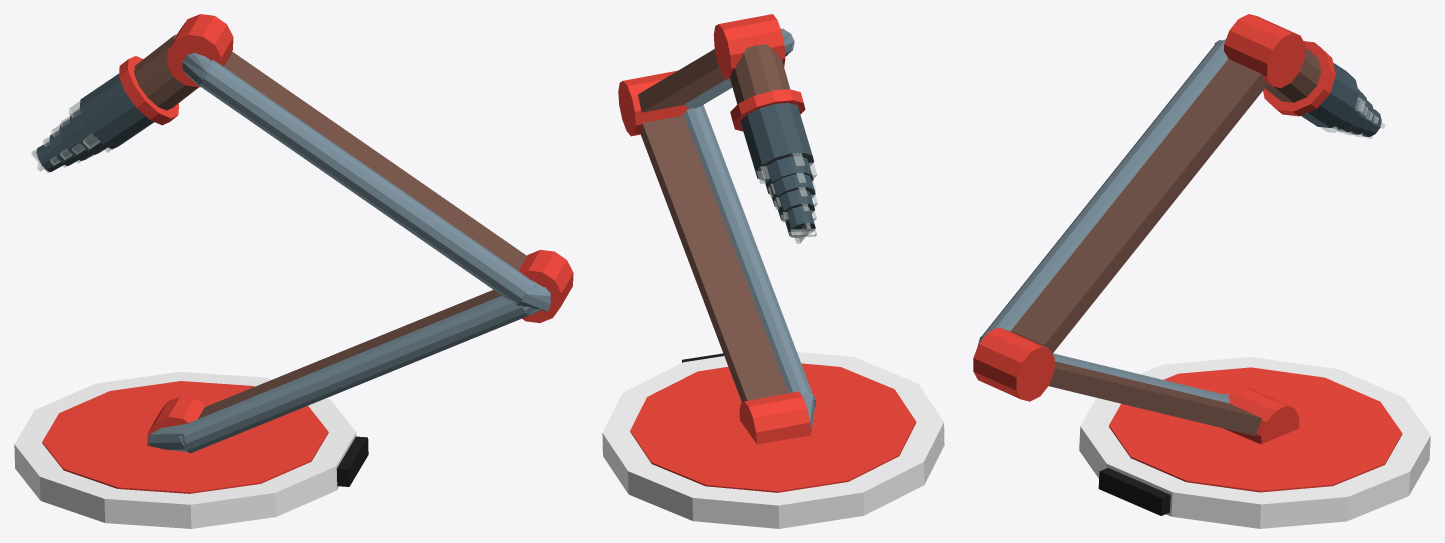
File: robot-1.obj
3 renders of one model, left to right at view 1: azimuth 30°, elevation 25°; view 2: azimuth 150°, elevation 25°; view 3: azimuth 270°, elevation 25°, orthographic. The views are drawn at different scales.
Parts seen in each view (by area): view 1: group265936291, group1067764225, group2055158156, group963967233, group652148442, group98671890, group788946328, group2111833462, group1258700130, group940106066, group1181536916, group916482102 (+3 smaller); view 2: group265936291, group1067764225, group788946328, group963967233, group98671890, group916482102, group2111833462, group652148442, group940106066, group1258700130, group1181536916, group2055158156; view 3: group265936291, group1067764225, group652148442, group2055158156, group788946328, group1258700130, group2111833462, group98671890, group916482102, group1513678270, group1181536916, group963967233 (+1 smaller).
Part boxes in pixels (x1=…): group265936291: x1=42, y1=381, x2=328, y2=493; group1067764225: x1=14, y1=371, x2=356, y2=528; group2055158156: x1=196, y1=59, x2=533, y2=303; group963967233: x1=178, y1=295, x2=529, y2=453; group652148442: x1=223, y1=52, x2=526, y2=270; group98671890: x1=31, y1=73, x2=154, y2=172; group788946328: x1=198, y1=290, x2=501, y2=418; group2111833462: x1=167, y1=14, x2=233, y2=87; group1258700130: x1=518, y1=249, x2=573, y2=322; group940106066: x1=134, y1=34, x2=198, y2=110; group1181536916: x1=119, y1=56, x2=178, y2=125; group916482102: x1=147, y1=396, x2=206, y2=446; group265936291: x1=630, y1=363, x2=916, y2=492; group1067764225: x1=602, y1=352, x2=944, y2=528; group788946328: x1=640, y1=115, x2=788, y2=402; group963967233: x1=683, y1=105, x2=816, y2=406; group98671890: x1=740, y1=103, x2=817, y2=243; group916482102: x1=739, y1=391, x2=810, y2=444; group2111833462: x1=713, y1=14, x2=785, y2=79; group652148442: x1=638, y1=49, x2=725, y2=112; group940106066: x1=730, y1=44, x2=789, y2=103; group1258700130: x1=618, y1=71, x2=689, y2=136; group1181536916: x1=730, y1=89, x2=805, y2=131; group2055158156: x1=684, y1=28, x2=793, y2=108; group265936291: x1=1109, y1=367, x2=1402, y2=492; group1067764225: x1=1079, y1=357, x2=1430, y2=528; group652148442: x1=1011, y1=59, x2=1267, y2=353; group2055158156: x1=981, y1=40, x2=1228, y2=336; group788946328: x1=1049, y1=361, x2=1261, y2=435; group1258700130: x1=973, y1=327, x2=1054, y2=401; group2111833462: x1=1224, y1=14, x2=1305, y2=88; group98671890: x1=1301, y1=63, x2=1385, y2=138; group916482102: x1=1223, y1=386, x2=1299, y2=444; group1513678270: x1=1098, y1=468, x2=1170, y2=515; group1181536916: x1=1263, y1=41, x2=1335, y2=116; group963967233: x1=1052, y1=353, x2=1229, y2=403.
Bounding box in the file's own units: 0.5099 × 0.5069 × 0.4694.
